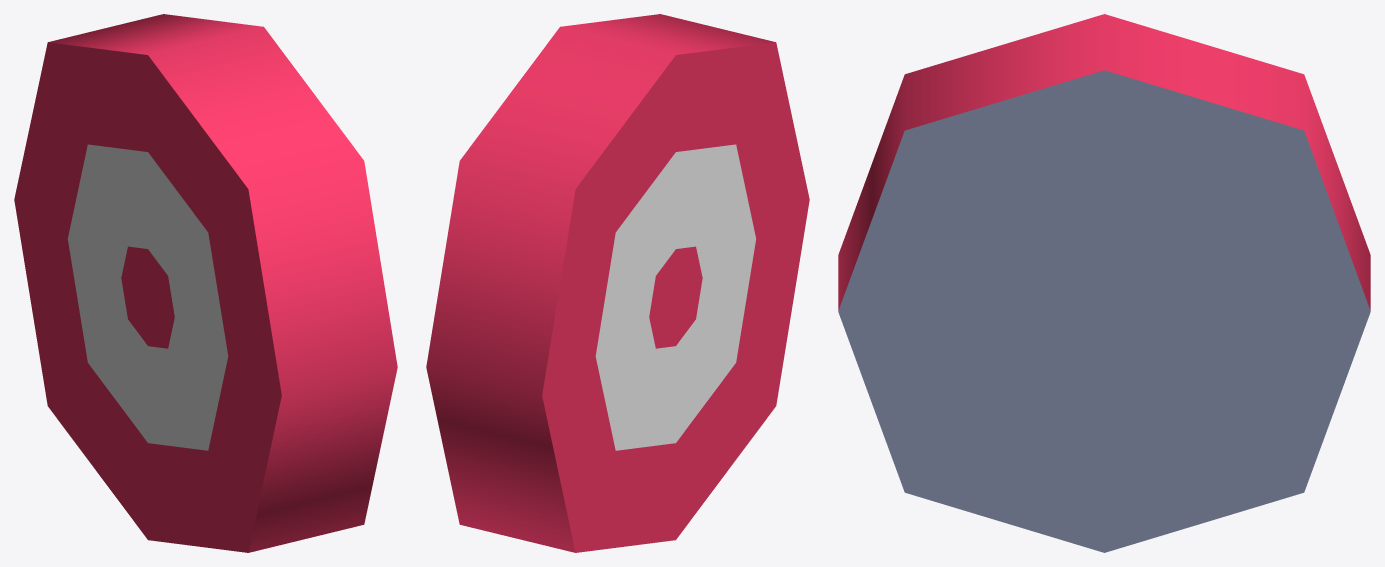
The model's file is targetSmall.obj.
3 renders of one model, left to right at view 1: azimuth 30°, elevation 25°; view 2: azimuth 150°, elevation 25°; view 3: azimuth 270°, elevation 25°, orthographic.
Parts seen in each view (by area): view 1: targetSmall; view 2: targetSmall; view 3: targetSmall.
Boxes of the visible parts, x1,y1,x2,y2 form: targetSmall: (14, 14, 397, 552); targetSmall: (426, 14, 809, 552); targetSmall: (838, 14, 1370, 552).
Bounding box in the file's own units: 0.05 × 0.2 × 0.2.
